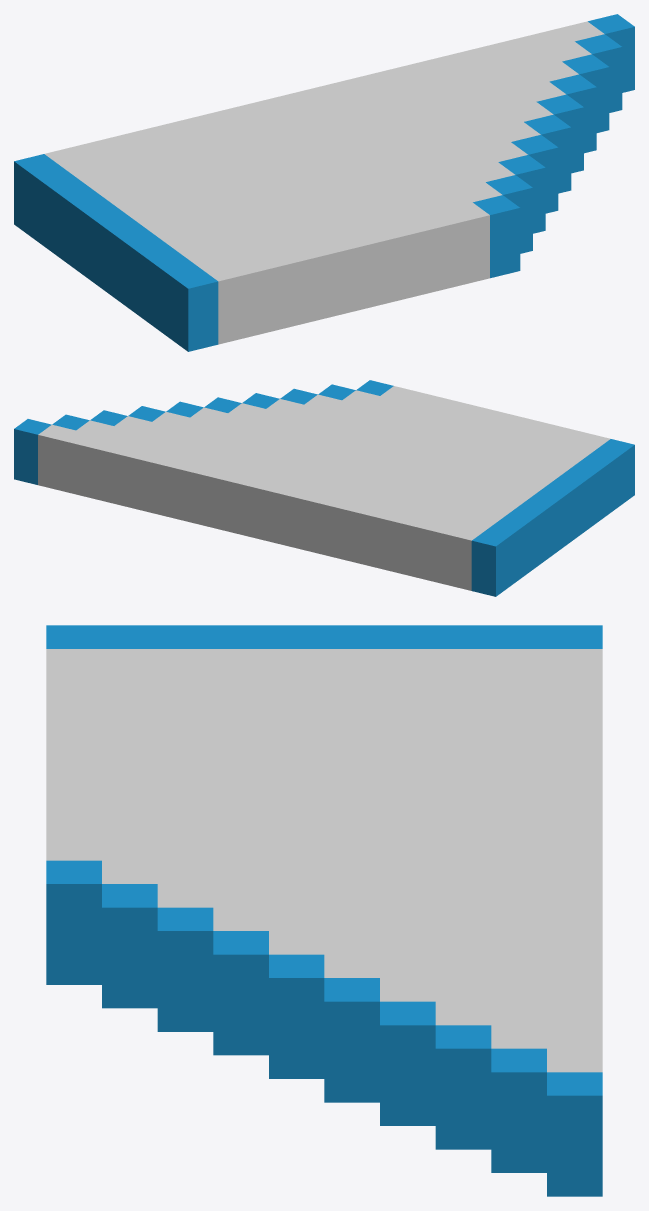
The model's file is DefaultToHalfWideRight.fbx.
3 renders of one model, top to bottom at view 1: azimuth 30°, elevation 25°; view 2: azimuth 150°, elevation 25°; view 3: azimuth 270°, elevation 25°, orthographic. The views are drawn at different scales.
Visible parts, largest first — view 1: Matrix_6; view 2: Matrix_6; view 3: Matrix_6.
Boxes of the visible parts, bbox=[...] form: Matrix_6: bbox=[14, 14, 634, 351]; Matrix_6: bbox=[14, 380, 634, 596]; Matrix_6: bbox=[46, 625, 602, 1196].
Bounding box in the file's own units: 20 × 2 × 10.
